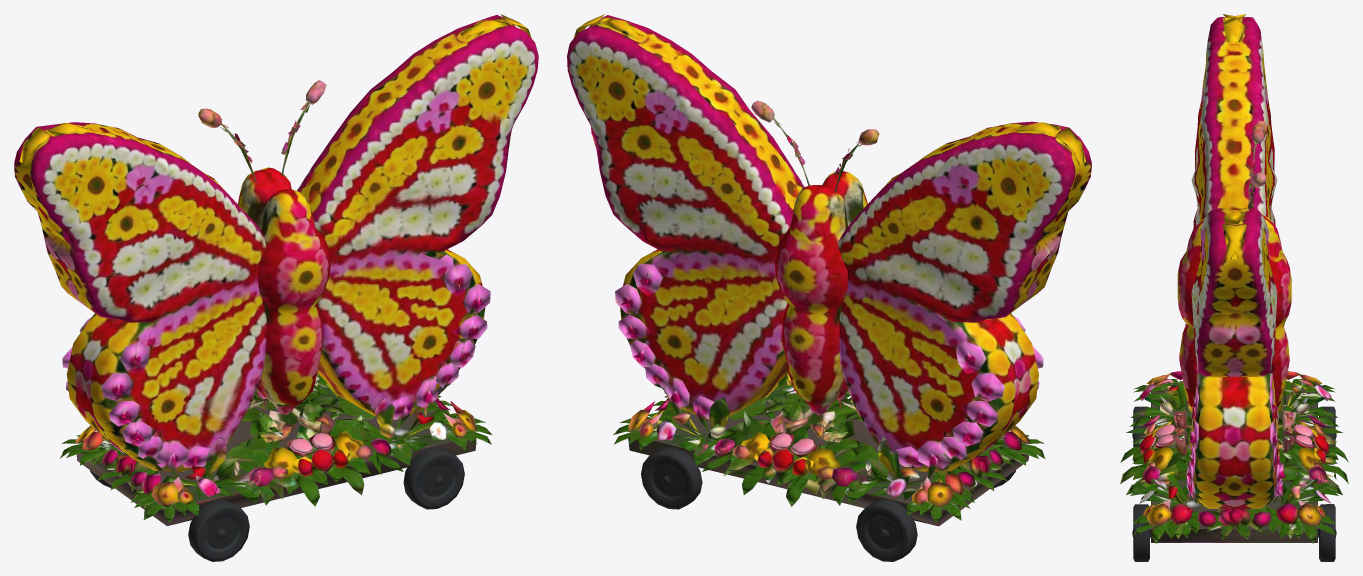
Rendered from panagbenga-float.glb.
The picture shows the model from 3 angles, left to right: view 1: azimuth 30°, elevation 25°; view 2: azimuth 150°, elevation 25°; view 3: azimuth 270°, elevation 25°; orthographic projection. The views are drawn at different scales.
Parts seen in each view (by area): view 1: geometry_0; view 2: geometry_0; view 3: geometry_0.
Part boxes in pixels (x1,y1,x2,y2): geometry_0: (14,14,538,561); geometry_0: (567,14,1091,561); geometry_0: (1120,14,1348,561).
Size of the model in its own units: 0.9497 by 0.7578 by 0.399.
Materials: 1 (1 with a texture image).
